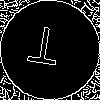T: (25, 25, 62, 75)
